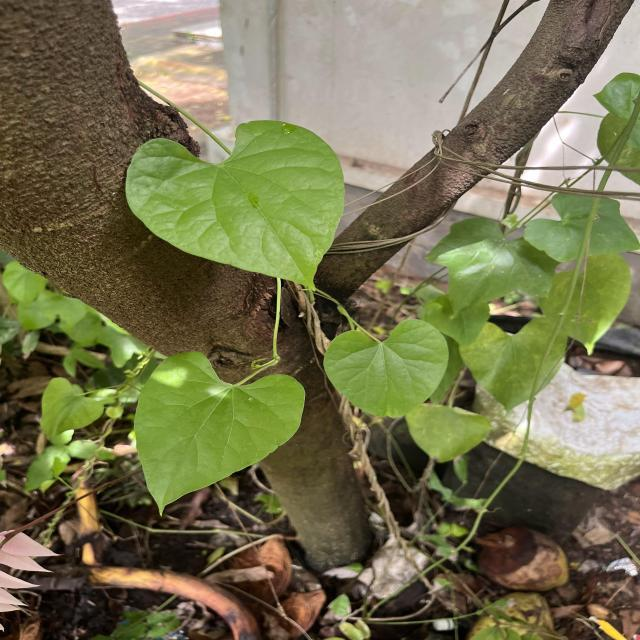Tinospora cordifolia: (122, 118, 351, 294), (131, 346, 310, 520)
